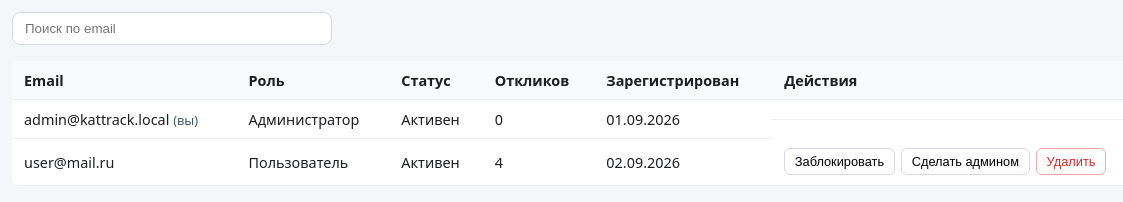
Test case: AdminUsersTab › filters users by email
Check: the text "user@mail.ru" is shown, box left=12, top=139, right=236, bottom=186
In the search field with placeholder "Поиск по email": (172, 28) left=12, top=12, right=332, bottom=45, type "mail.ru"
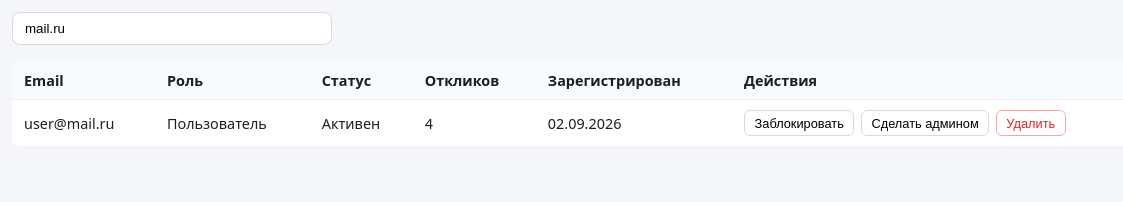
Check: the text "user@mail.ru" is shown, box left=12, top=100, right=155, bottom=147
Check: the text "admin@kattrack.local" is gone
